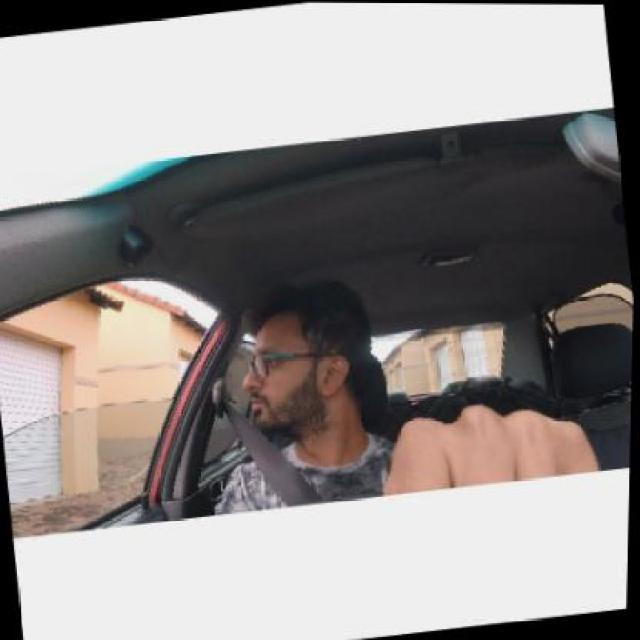LeftRight: (230, 278, 404, 488)
